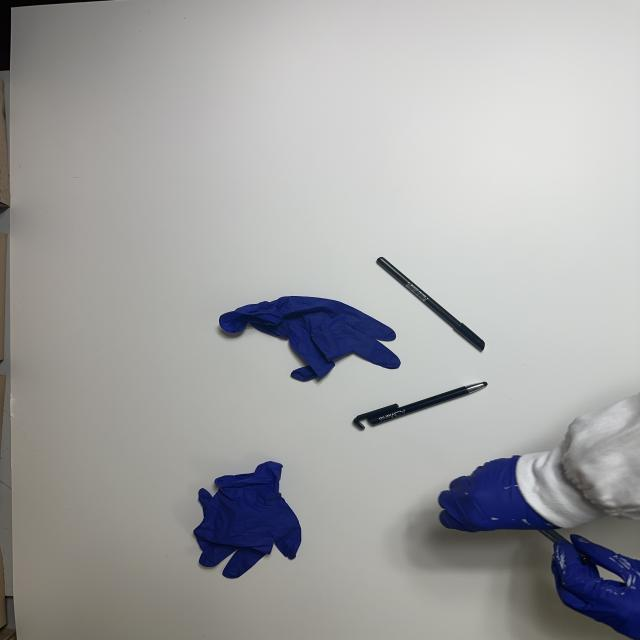gloves_contaminated: (551, 534, 640, 640), (438, 456, 559, 532)
